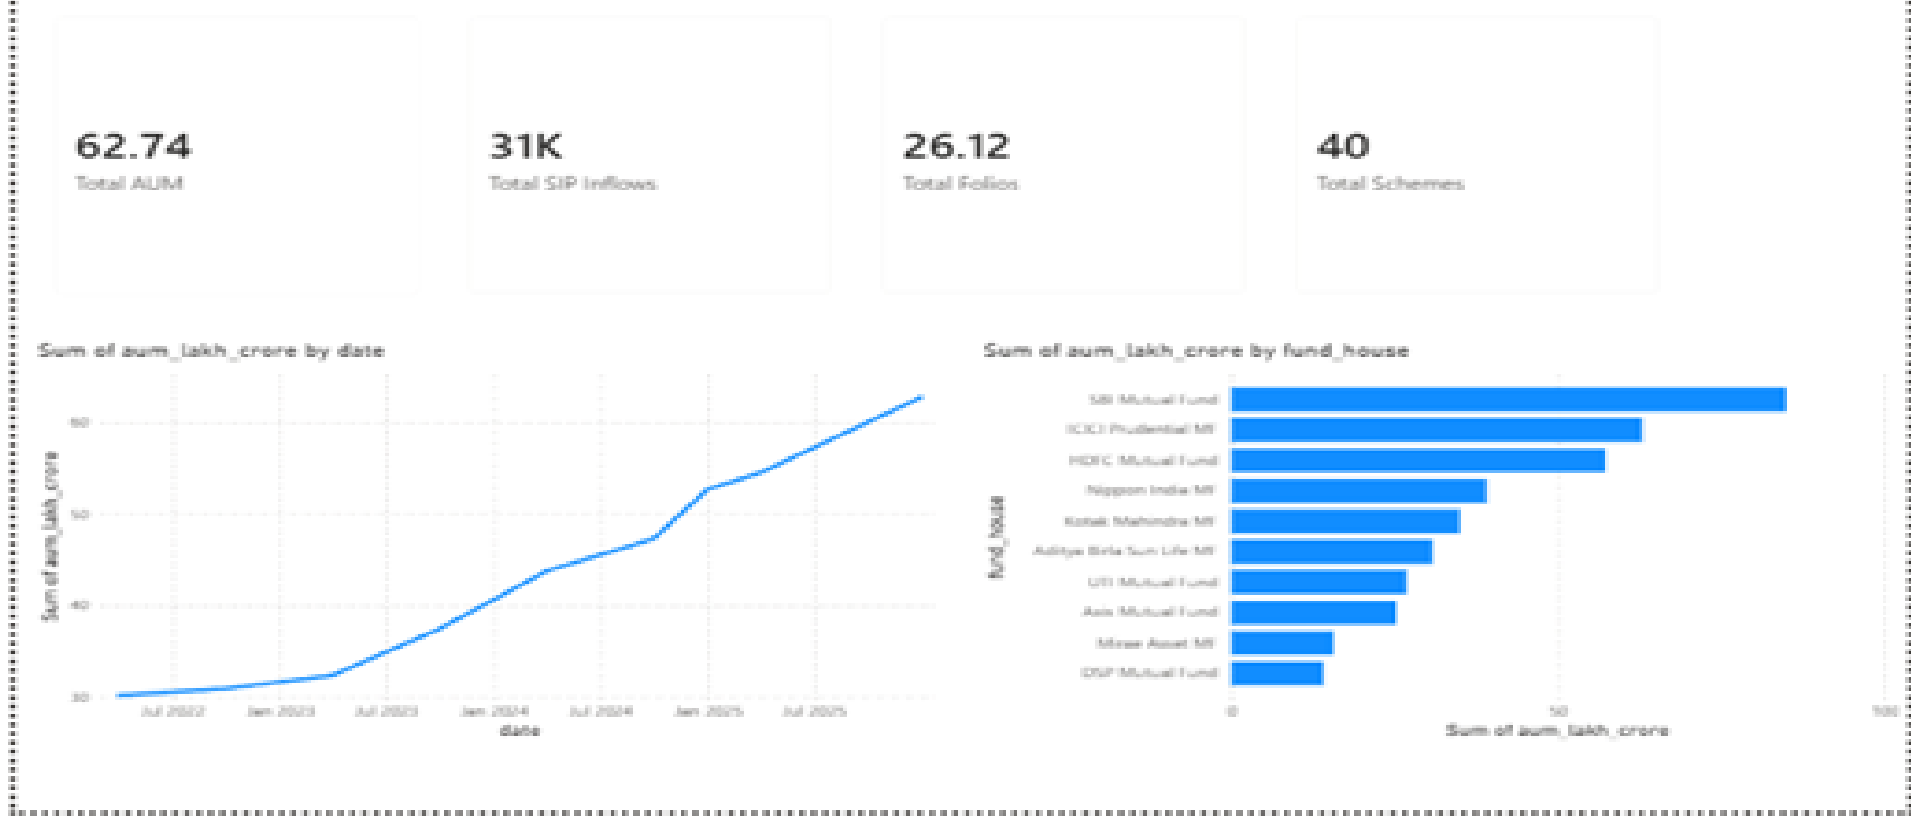

The dashboard page shown, as its layout file describes it:
{"tool":"powerbi","page":{"name":"Industry Overview","canvas":[1280,720],"ordinal":0},"visuals":[{"type":"cardVisual","fields":{"Data":["clean_aum_fund_house.Total AUM"]},"box":[10,0,280,280],"z":0},{"type":"cardVisual","fields":{"Data":["clean_aum_fund_house.Total SIP Inflows"]},"box":[289.8,0,279.9,279.9],"z":1000},{"type":"cardVisual","fields":{"Data":["clean_aum_fund_house.Total Folios"]},"box":[569.6,0,279.9,279.9],"z":2000},{"type":"cardVisual","fields":{"Data":["clean_aum_fund_house.Total Schemes"]},"box":[849.4,0,279.9,279.9],"z":3000},{"type":"lineChart","fields":{"Y":["Sum(clean_aum_fund_house.aum_lakh_crore)"],"Category":["clean_aum_fund_house.date.Variation.Date Hierarchy.Year"]},"box":[9.6,301.9,629.8,360.9],"z":4000},{"type":"clusteredBarChart","fields":{"Category":["clean_aum_fund_house.fund_house"],"Y":["Sum(clean_aum_fund_house.aum_lakh_crore)"]},"box":[650.4,301.9,629.8,360.9],"z":5000}]}

Visuals, with their boxes on the page's 1280x720 design canvas (x1, y1, x2, y2). These are canvas units, not pixel positions in the 1911x826 screenshot, which may show the page scaled, cropped or inside an application window:
cardVisual - clean_aum_fund_house.Total AUM: bbox(10, 0, 290, 280)
cardVisual - clean_aum_fund_house.Total SIP Inflows: bbox(290, 0, 570, 280)
cardVisual - clean_aum_fund_house.Total Folios: bbox(570, 0, 850, 280)
cardVisual - clean_aum_fund_house.Total Schemes: bbox(849, 0, 1129, 280)
lineChart - Sum(clean_aum_fund_house.aum_lakh_crore) x clean_aum_fund_house.date.Variation.Date Hierarchy.Year: bbox(10, 302, 639, 663)
clusteredBarChart - clean_aum_fund_house.fund_house x Sum(clean_aum_fund_house.aum_lakh_crore): bbox(650, 302, 1280, 663)
